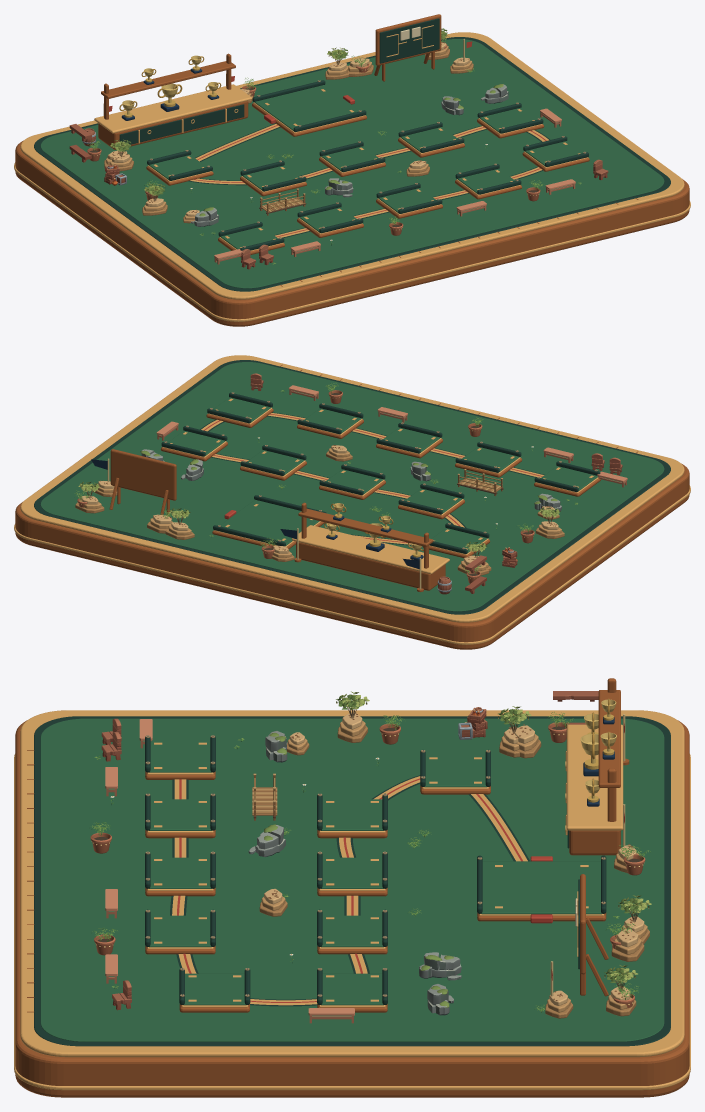
File: viridis.glb
3 views of the same model, one above another, from view 1: azimuth 30°, elevation 25°; view 2: azimuth 150°, elevation 25°; view 3: azimuth 270°, elevation 25° (orthographic). The views are drawn at different scales.
Visible parts, largest first — view 1: Static tournament table • material batches; view 2: Static tournament table • material batches; view 3: Static tournament table • material batches.
Part boxes in pixels (x1,y1,x2,y2): Static tournament table • material batches: [14, 14, 690, 326]; Static tournament table • material batches: [14, 355, 690, 649]; Static tournament table • material batches: [14, 678, 690, 1097].
Bounding box in the file's own units: 24.1 × 5.04 × 19.68.
